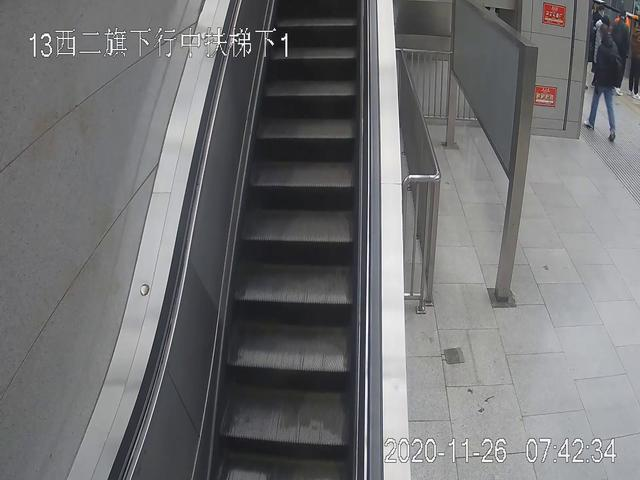person: (586, 22, 621, 143)
